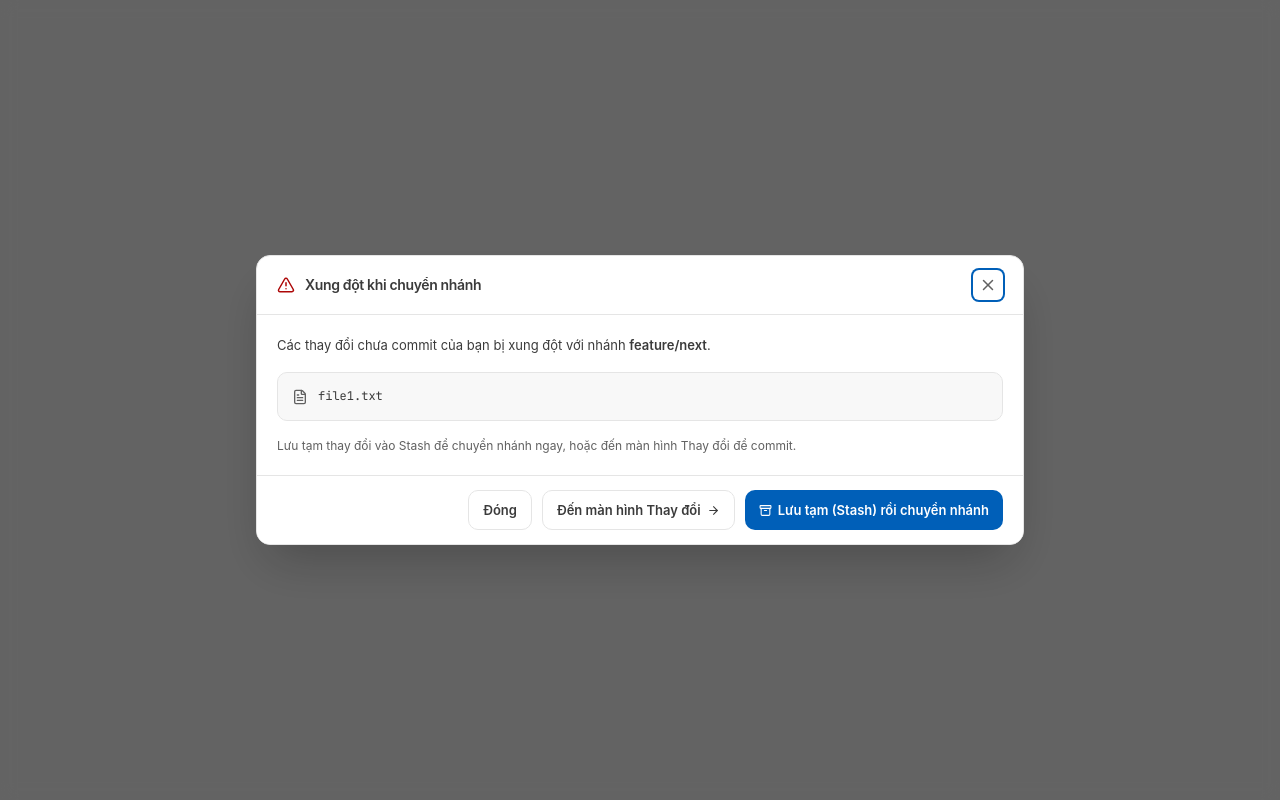
CheckoutConflictModal › cancels stash message modal on cancel button without saving
Click the button "Lưu tạm (Stash) rồi chuyển nhánh".
click(874, 510)  # box [745,490,1003,530]
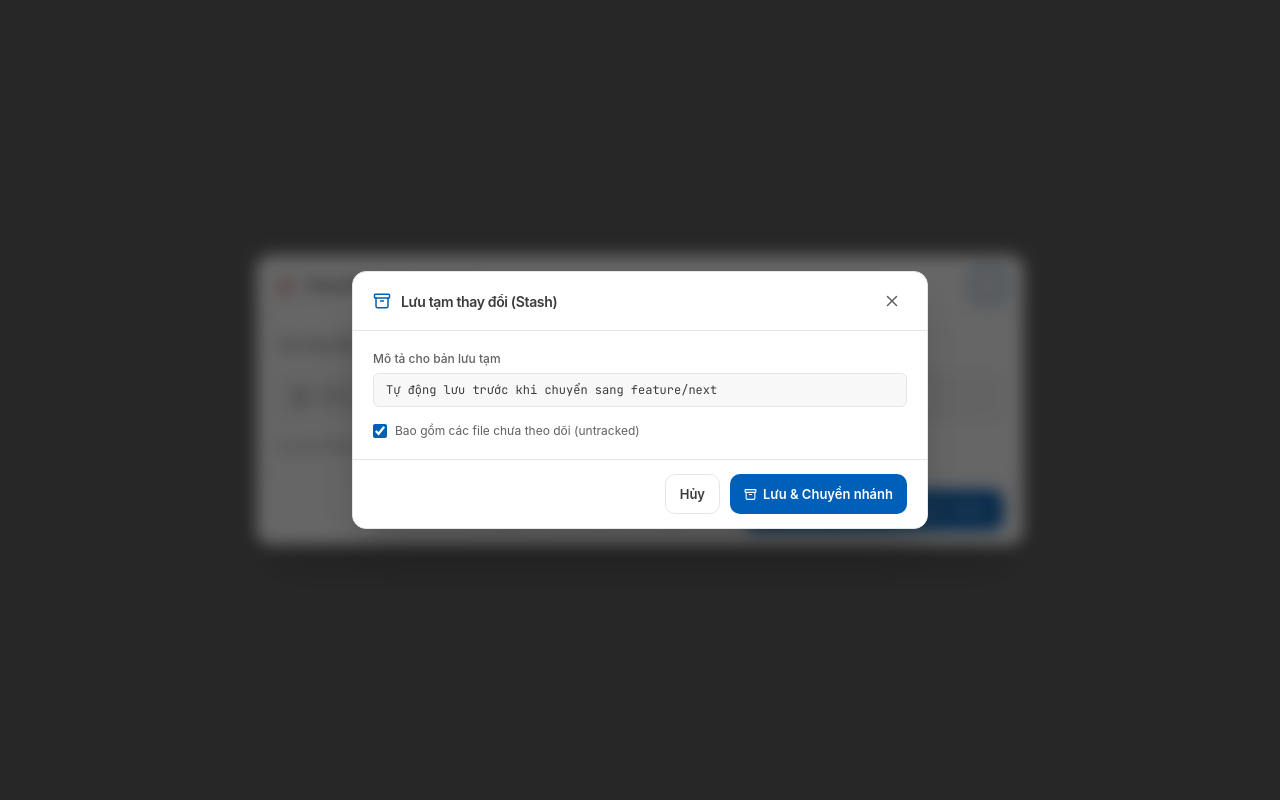
Check: the heading "Lưu tạm thay đổi (Stash)" is shown, box [401,290,557,312]
Click the button "Hủy".
click(692, 494)  # box [665,474,720,514]
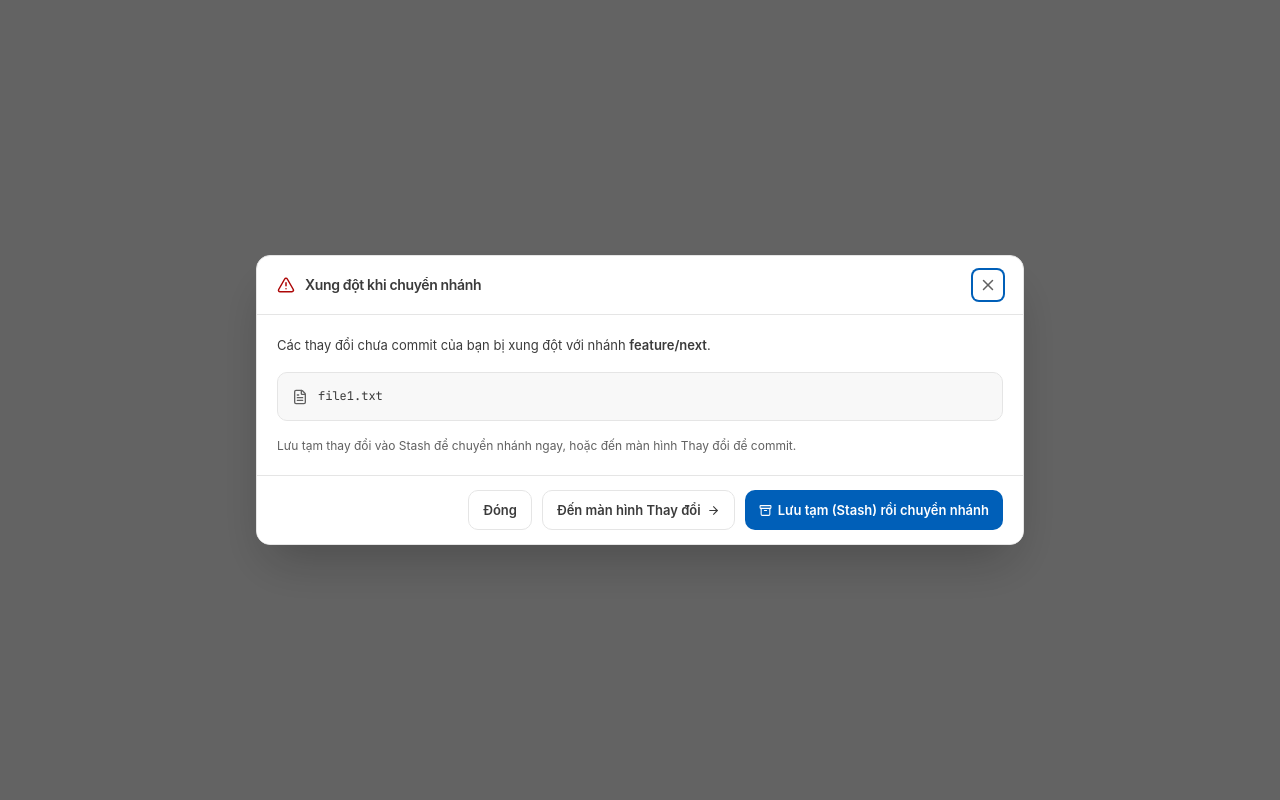
Check: the heading "Lưu tạm thay đổi (Stash)" is gone
